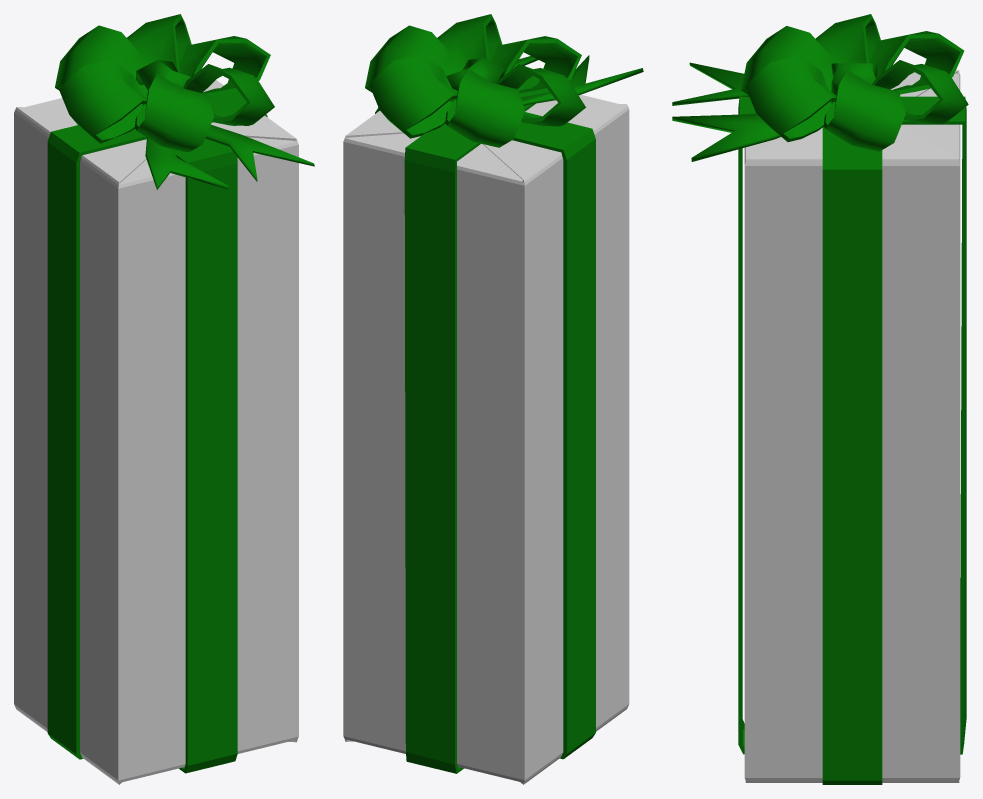
File: gift2.glb
3 views of the same model, side by side, from view 1: azimuth 30°, elevation 25°; view 2: azimuth 150°, elevation 25°; view 3: azimuth 270°, elevation 25° (orthographic). The views are drawn at different scales.
Visible parts, largest first — view 1: Box03, Ribbon03, Bow03; view 2: Box03, Ribbon03, Bow03; view 3: Box03, Ribbon03, Bow03.
Part boxes in pixels (bbox=[...]): Box03: bbox=[14, 80, 298, 784]; Ribbon03: bbox=[47, 91, 267, 773]; Bow03: bbox=[55, 14, 314, 189]; Box03: bbox=[343, 95, 629, 784]; Ribbon03: bbox=[375, 76, 595, 773]; Bow03: bbox=[365, 14, 643, 147]; Box03: bbox=[744, 70, 960, 782]; Ribbon03: bbox=[738, 96, 966, 784]; Bow03: bbox=[672, 14, 968, 161].
Bounding box in the file's own units: 0.1129 × 0.3585 × 0.1372.
